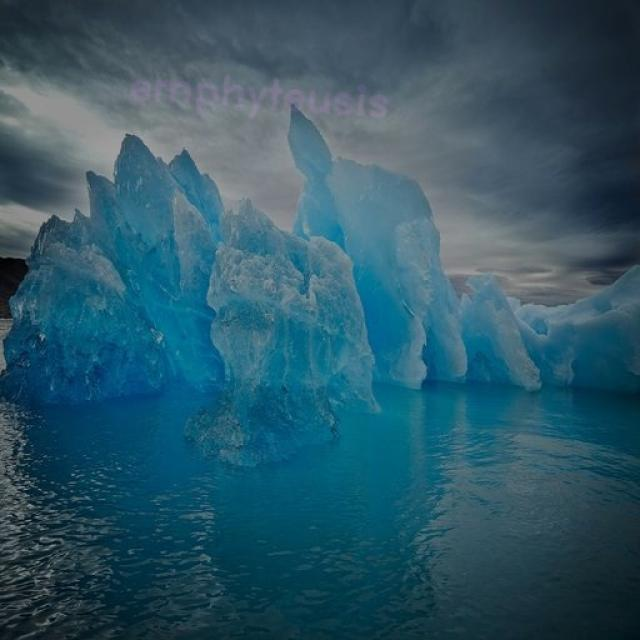watermark: (118, 68, 418, 124)
